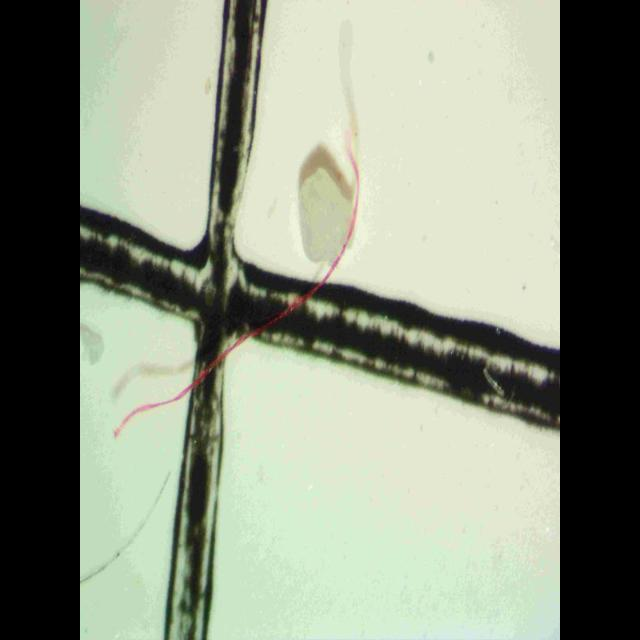Fibre: (110, 136, 362, 450)
